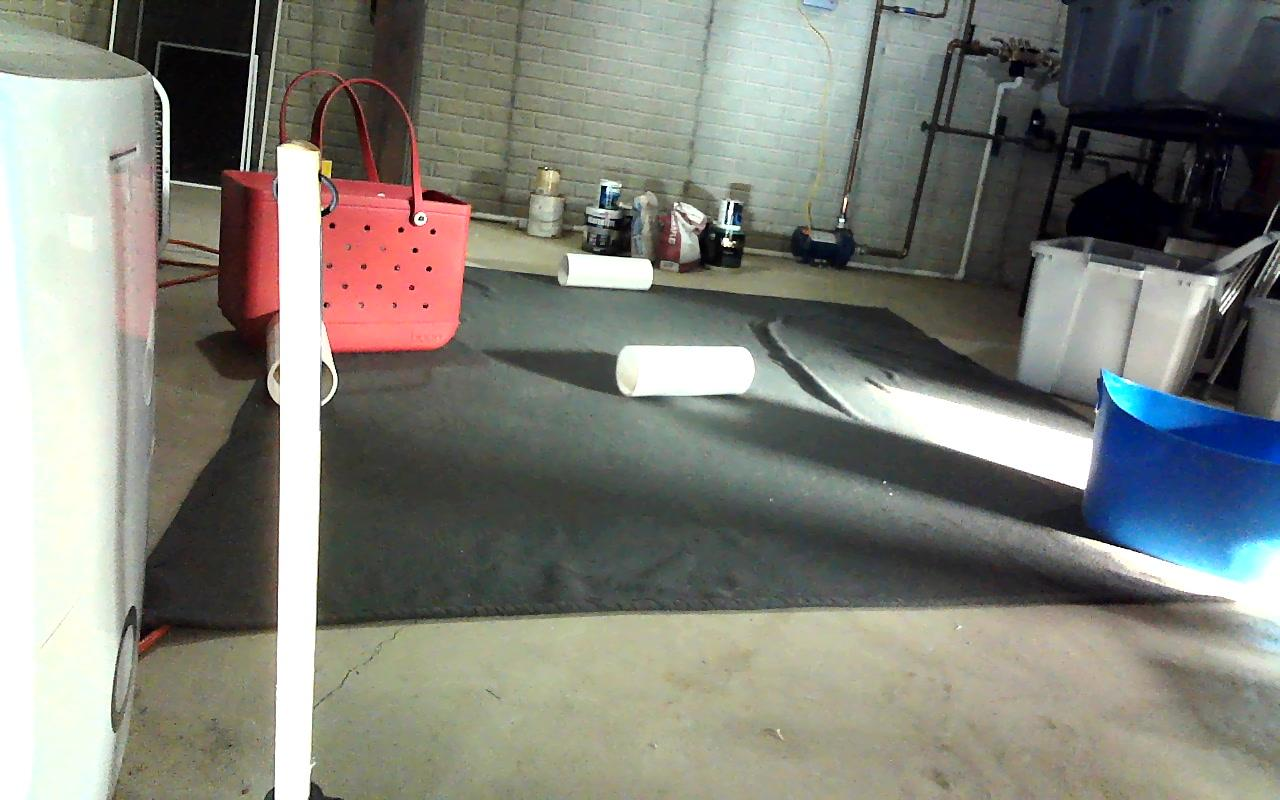coral: (617, 343, 754, 396), (267, 311, 336, 407), (560, 252, 651, 291)
